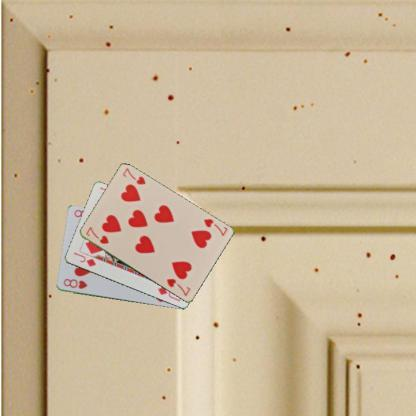7h: (201, 216, 228, 238), (83, 224, 110, 245)
8h: (61, 276, 88, 290)
Jd: (71, 250, 97, 268)
